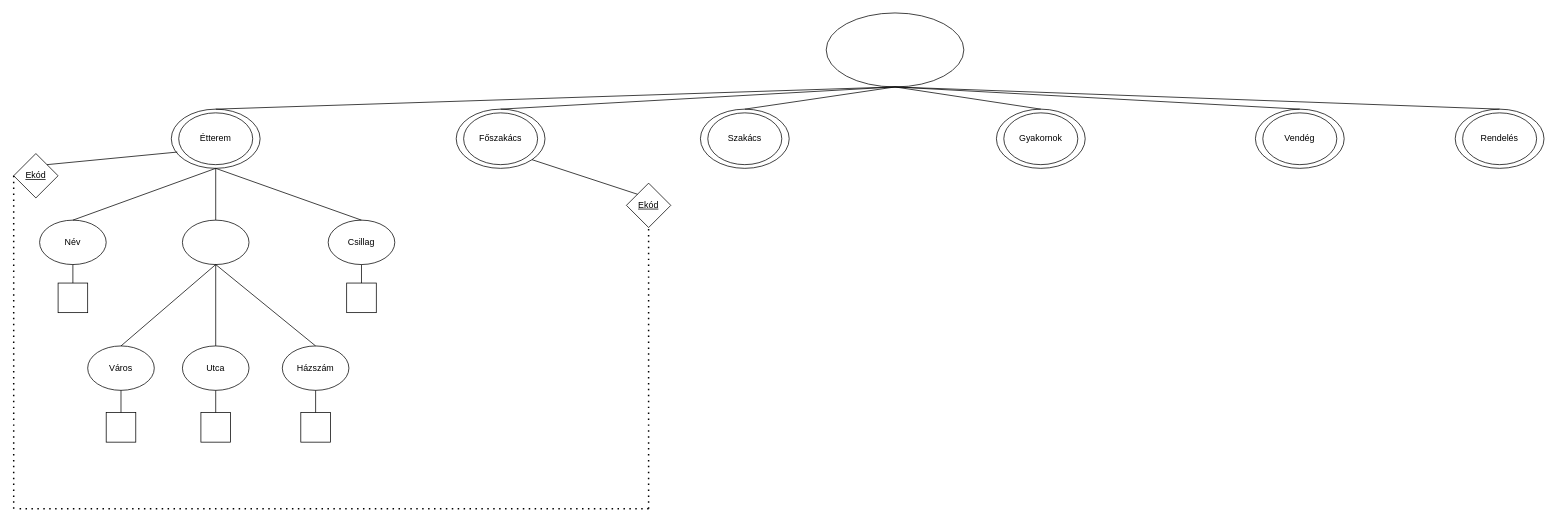
This 1557x523 diagram has some shape labels left out. The shapes that lost their labels are listed below. From the top down, each one's box as (x1, y1, x2, y2) in pixels, then its label:
(825, 12, 964, 87): E00XC3_Vendéglátás
(182, 219, 249, 265): Cím
